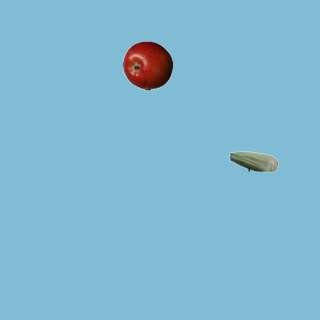Apple Braeburn: (122, 40, 172, 90)
Corn Husk: (228, 136, 278, 186)
